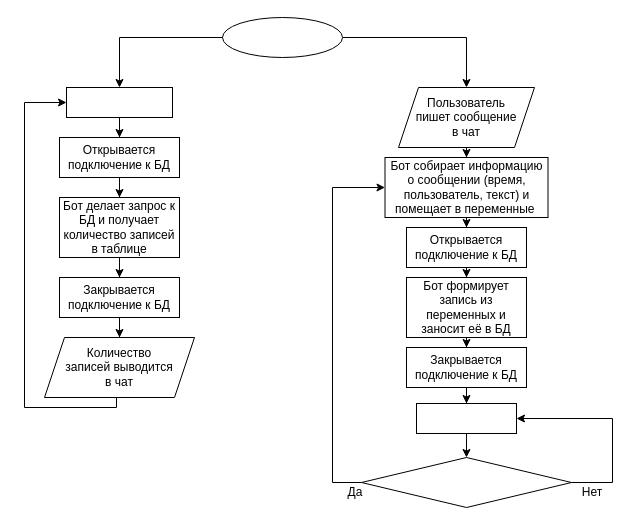
Some shapes in this 640 by 525 pixel diagram are drawn without their labels. Here are the shapes that lost their labels. From the top down, the centre of each, then its label:
At (282,37): "Начало".
At (119,102): "Ожидание 1 час".
At (466,418): "Ожидание 1 сек".
At (466,482): "Есть новое сообщение?".
